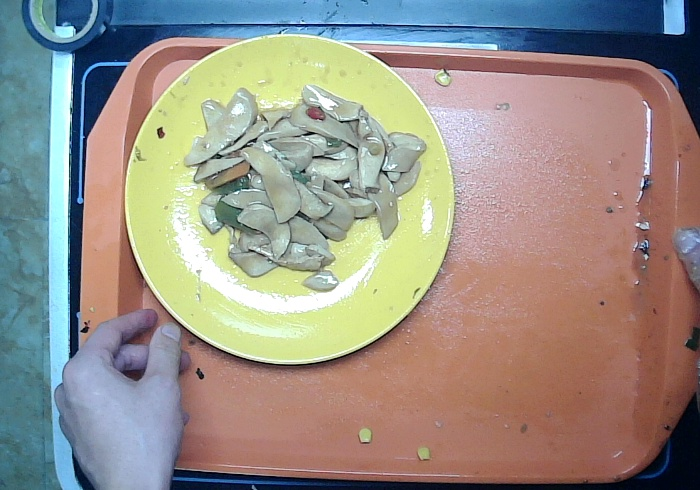HZYJPL-Huang_Se_Yuan_Pan: (118, 27, 463, 372)
